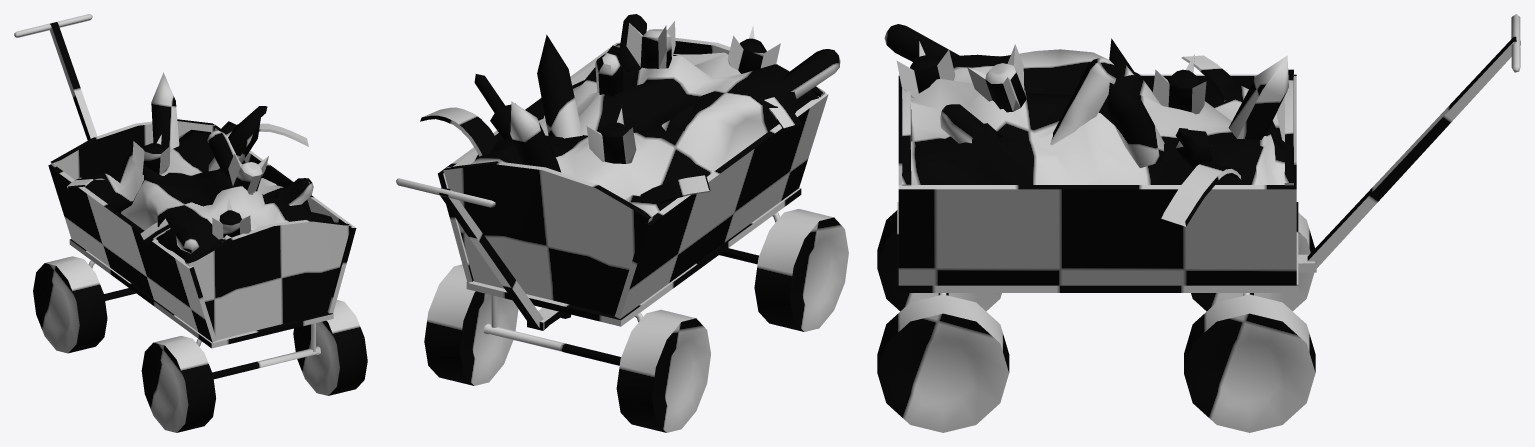
File: bollerwagen.obj
3 views of the same model, side by side, from view 1: azimuth 30°, elevation 25°; view 2: azimuth 150°, elevation 25°; view 3: azimuth 270°, elevation 25° (orthographic). The views are drawn at different scales.
Parts seen in each view (by area): view 1: bollerwagen; view 2: bollerwagen; view 3: bollerwagen.
Boxes of the visible parts, x1,y1,x2,y2 form: bollerwagen: (14,14,367,432); bollerwagen: (396,14,848,432); bollerwagen: (877,14,1520,432).
Bounding box in the file's own units: 82.15 × 79.93 × 138.
1 material, 1 textured.
